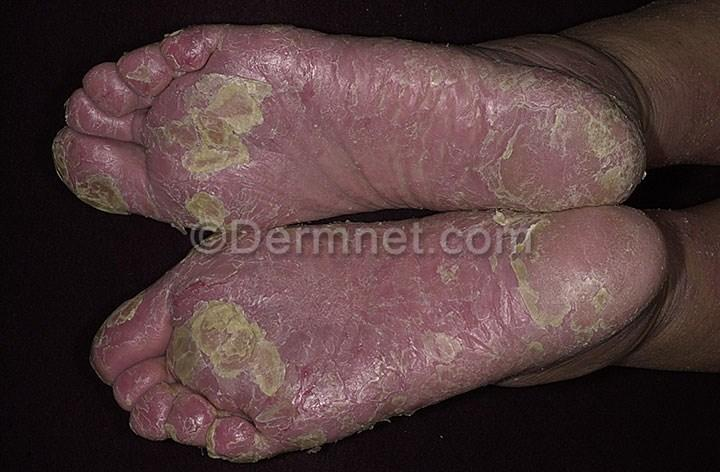Eczema: (159, 72, 281, 177), (185, 295, 281, 397), (281, 94, 366, 208), (257, 243, 337, 351), (436, 125, 526, 210), (364, 110, 436, 211), (514, 217, 610, 278), (391, 300, 459, 377), (509, 275, 603, 329), (443, 216, 526, 275), (354, 232, 442, 285), (422, 50, 483, 125), (342, 40, 418, 97), (269, 30, 336, 94), (325, 353, 407, 405), (524, 145, 595, 203), (536, 79, 592, 152), (340, 283, 396, 356), (184, 246, 256, 296), (589, 106, 633, 182), (171, 187, 239, 236), (439, 273, 519, 314), (466, 315, 524, 368), (117, 303, 180, 349), (606, 210, 659, 262), (203, 29, 264, 73), (77, 163, 131, 212), (486, 67, 532, 124), (314, 392, 397, 422), (614, 263, 661, 315), (135, 171, 180, 216), (132, 391, 176, 435), (276, 395, 317, 442), (526, 321, 576, 359), (284, 354, 332, 393), (135, 346, 190, 380), (105, 130, 154, 165), (244, 183, 281, 229), (331, 233, 364, 283), (401, 371, 492, 389), (216, 425, 261, 460), (258, 223, 336, 243), (96, 336, 133, 378), (226, 396, 271, 429), (161, 40, 200, 78), (49, 137, 92, 171), (145, 282, 180, 321), (77, 96, 125, 124), (174, 404, 213, 438), (118, 376, 169, 397), (131, 58, 163, 91), (316, 421, 365, 442), (134, 97, 164, 126), (600, 175, 622, 208), (580, 317, 612, 338), (99, 78, 128, 100), (72, 115, 99, 137), (265, 437, 298, 455)
